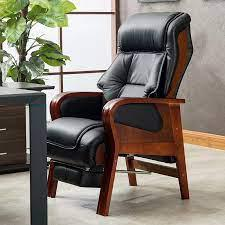chair: (41, 12, 201, 214)
